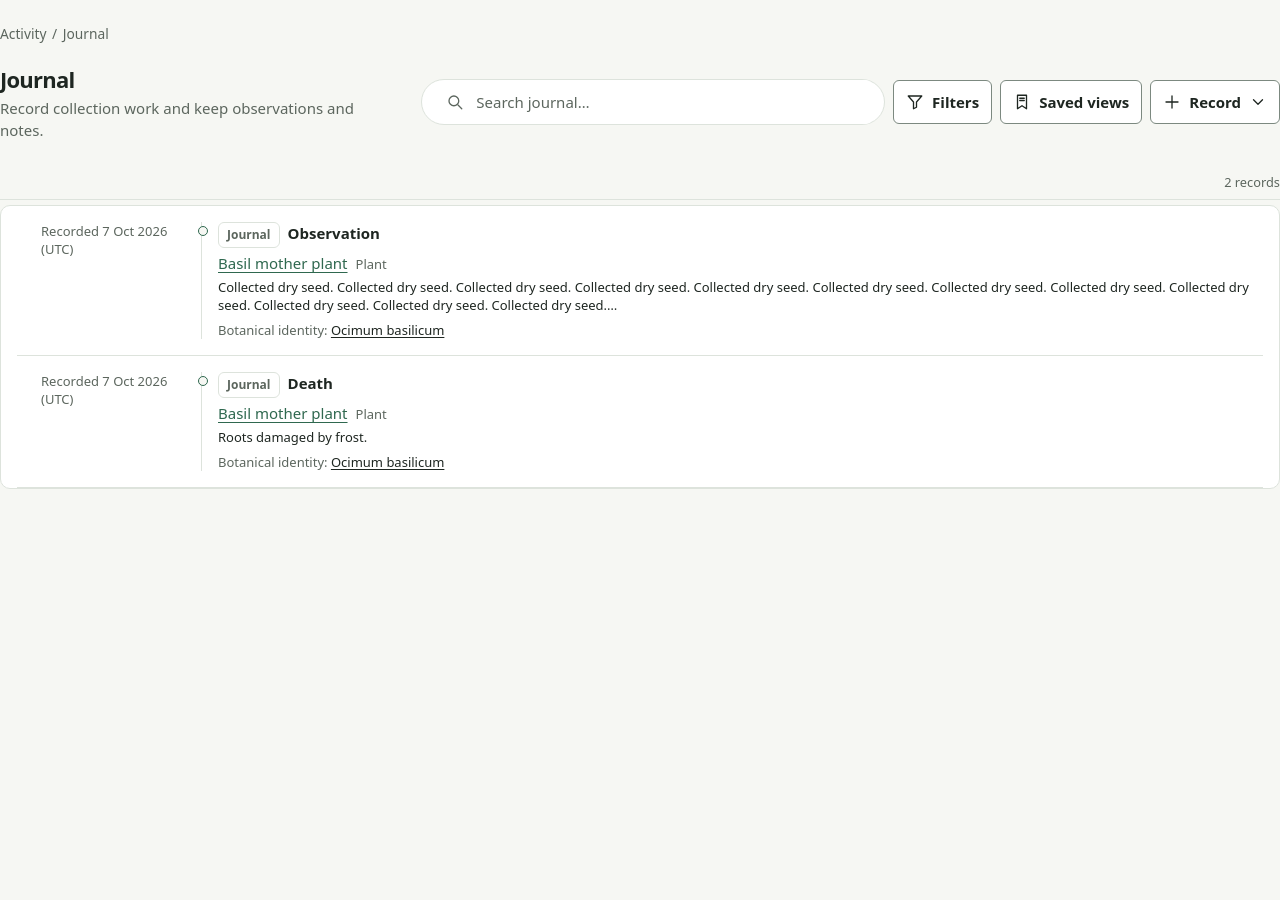
Test: Add observation / note reuses the correct contextual workflow and preserves dialog focus
The image size is (1280, 900).
Click the button "Record" at [1215, 102], box x1=1150 y1=80 x2=1279 y2=124
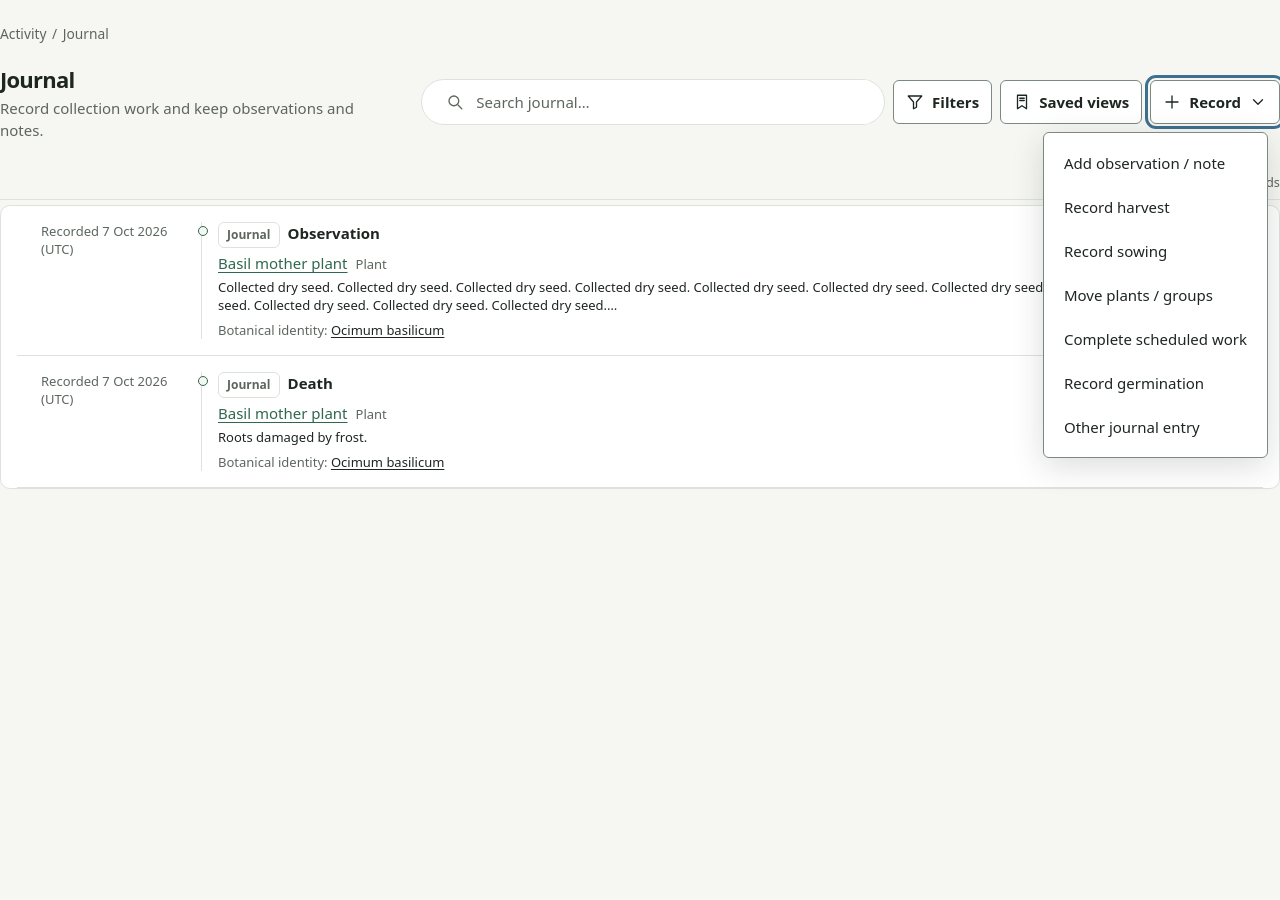
Click the button "Add observation / note" at [1156, 163], box x1=1052 y1=141 x2=1259 y2=185
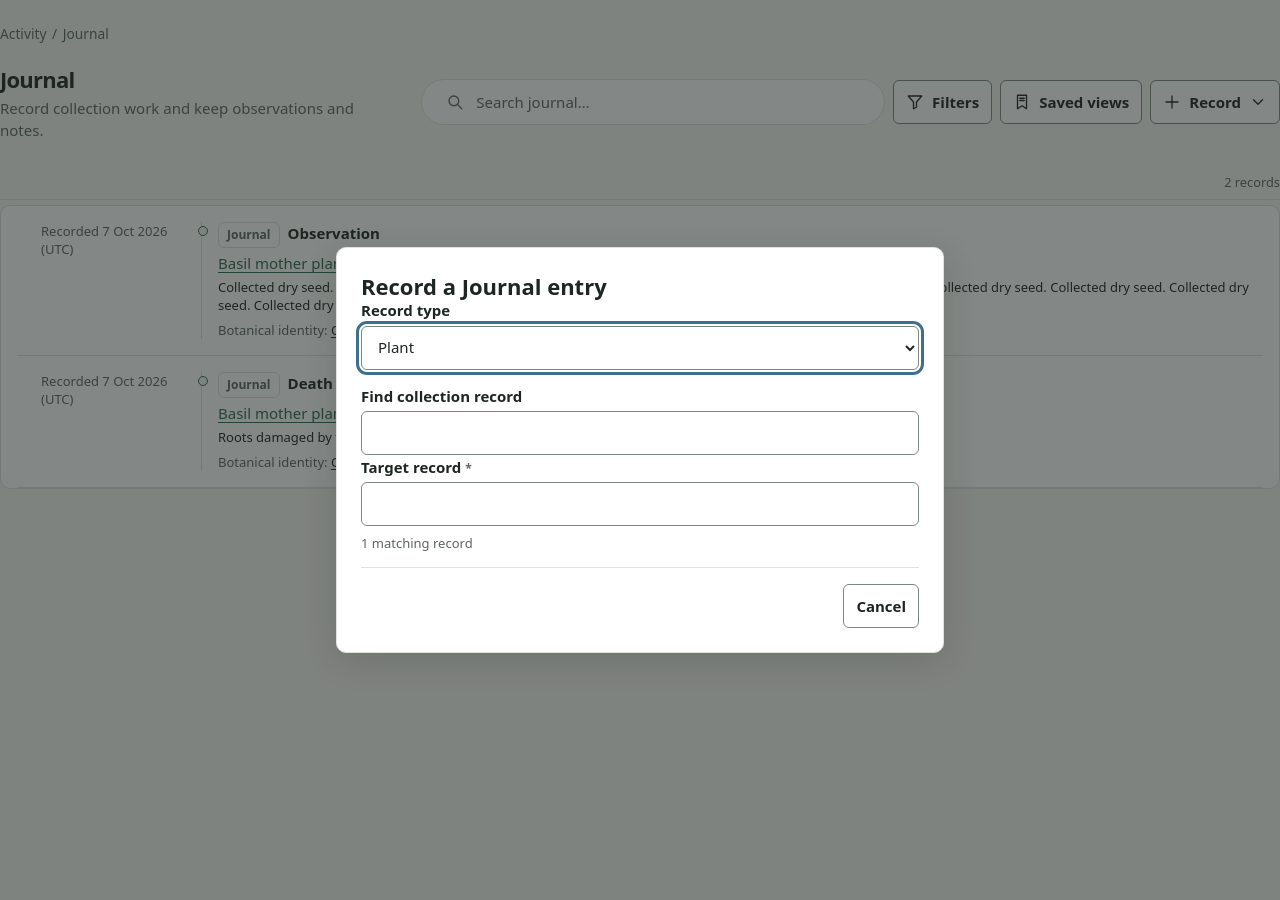
Select "Plant group" in the dropdown labelled "Record type" at [640, 348], box x1=361 y1=326 x2=919 y2=370
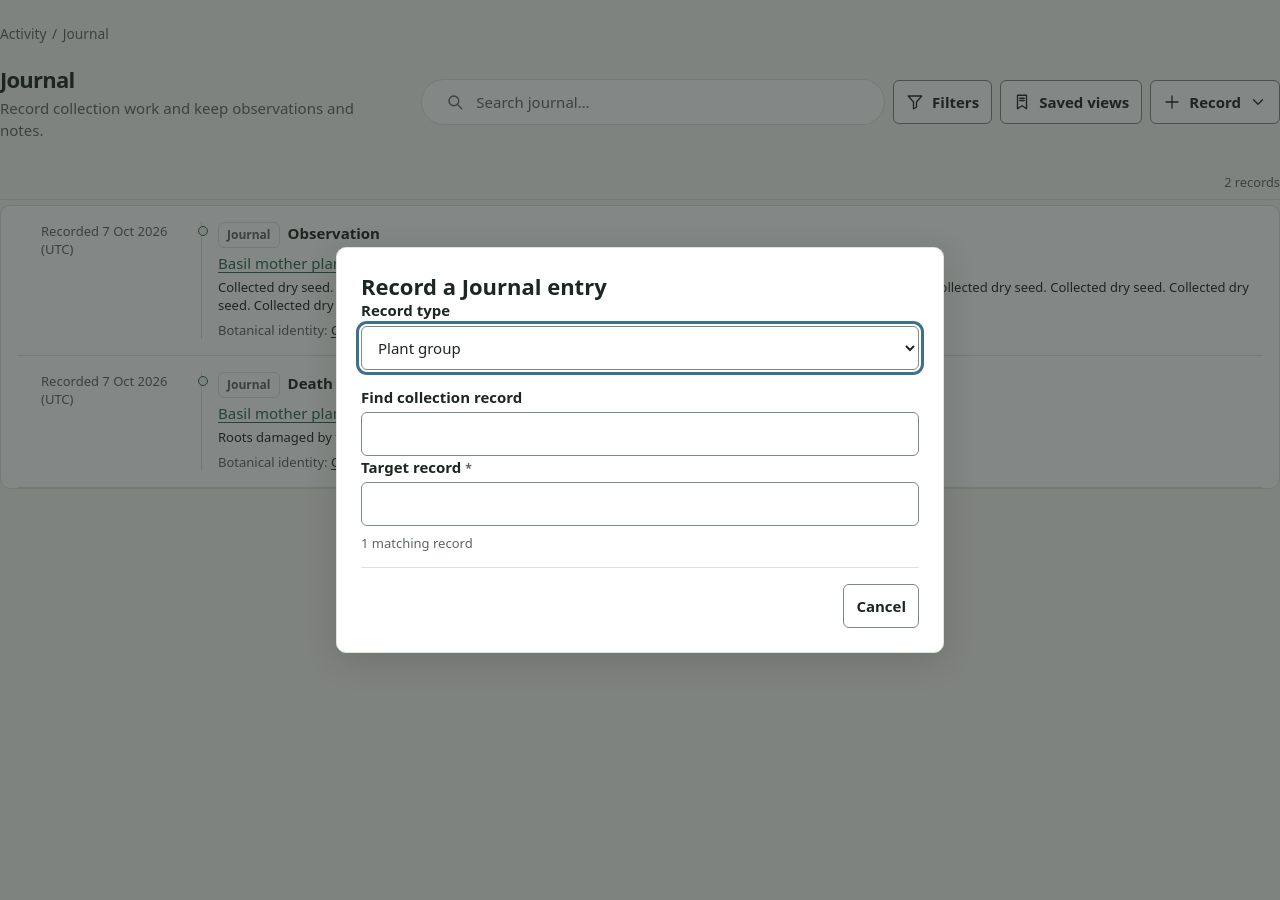
Click the dropdown labelled "Target record" at [640, 504], box x1=361 y1=482 x2=919 y2=526
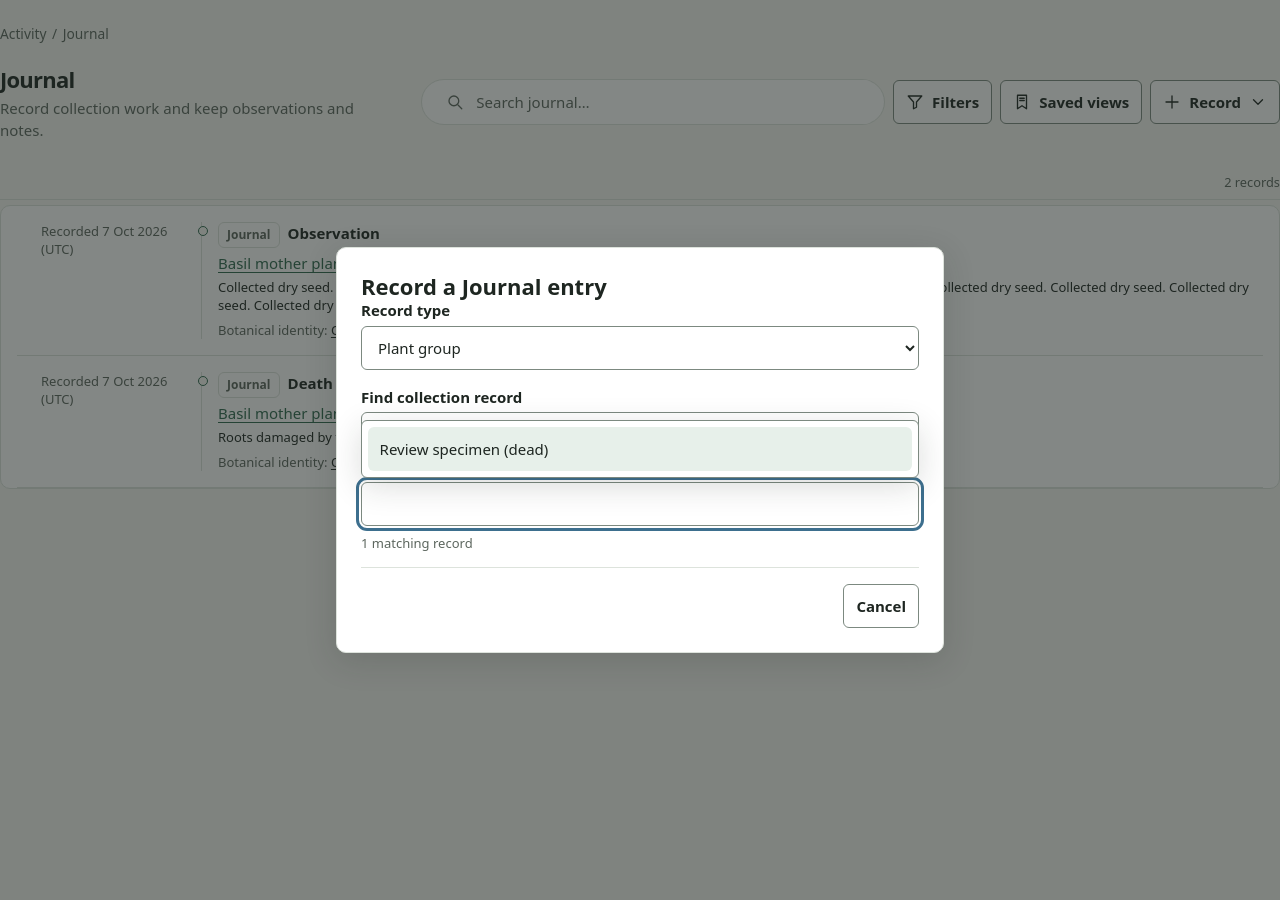
Click the button "Review specimen (dead)" at [464, 449], box x1=368 y1=427 x2=912 y2=471
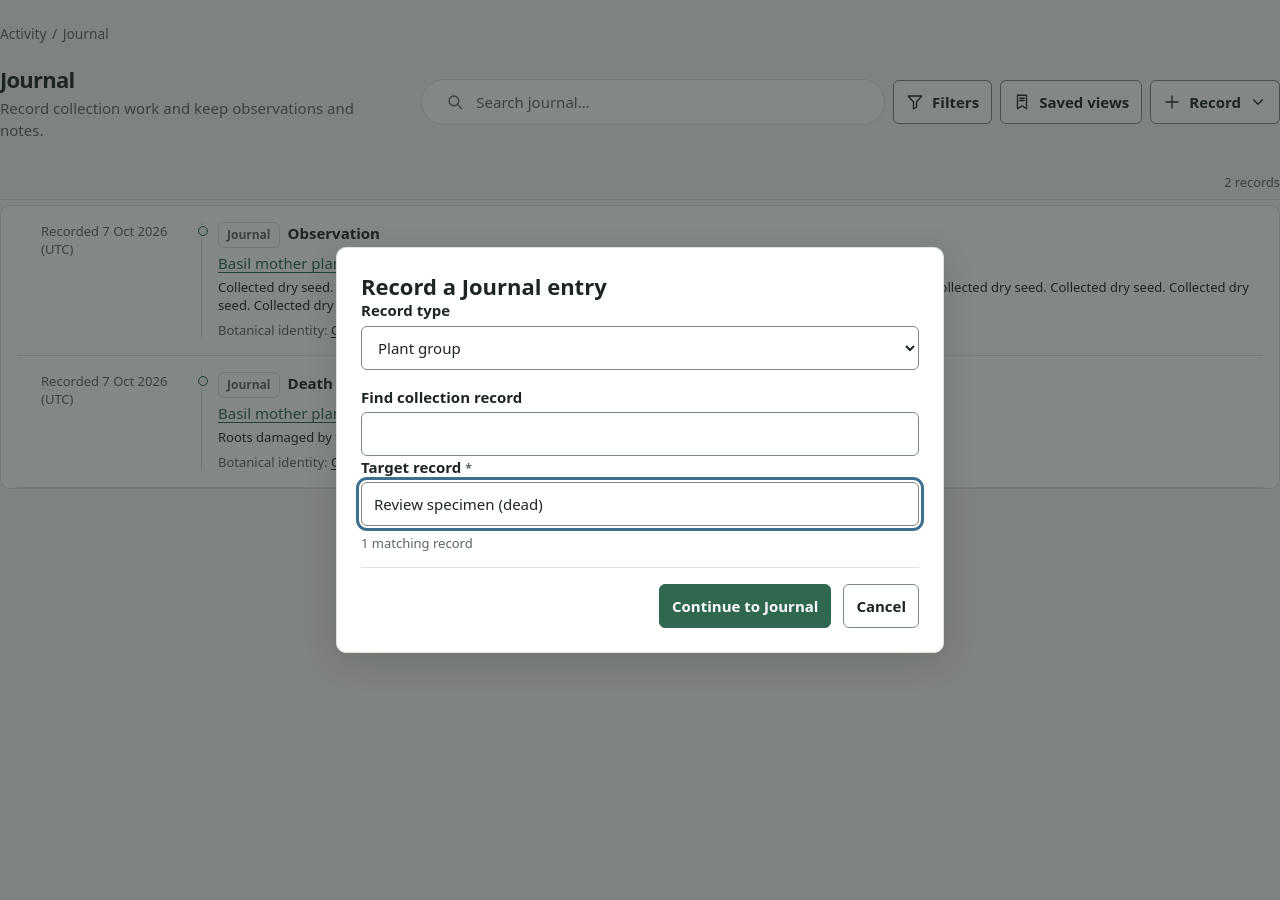
Press Escape
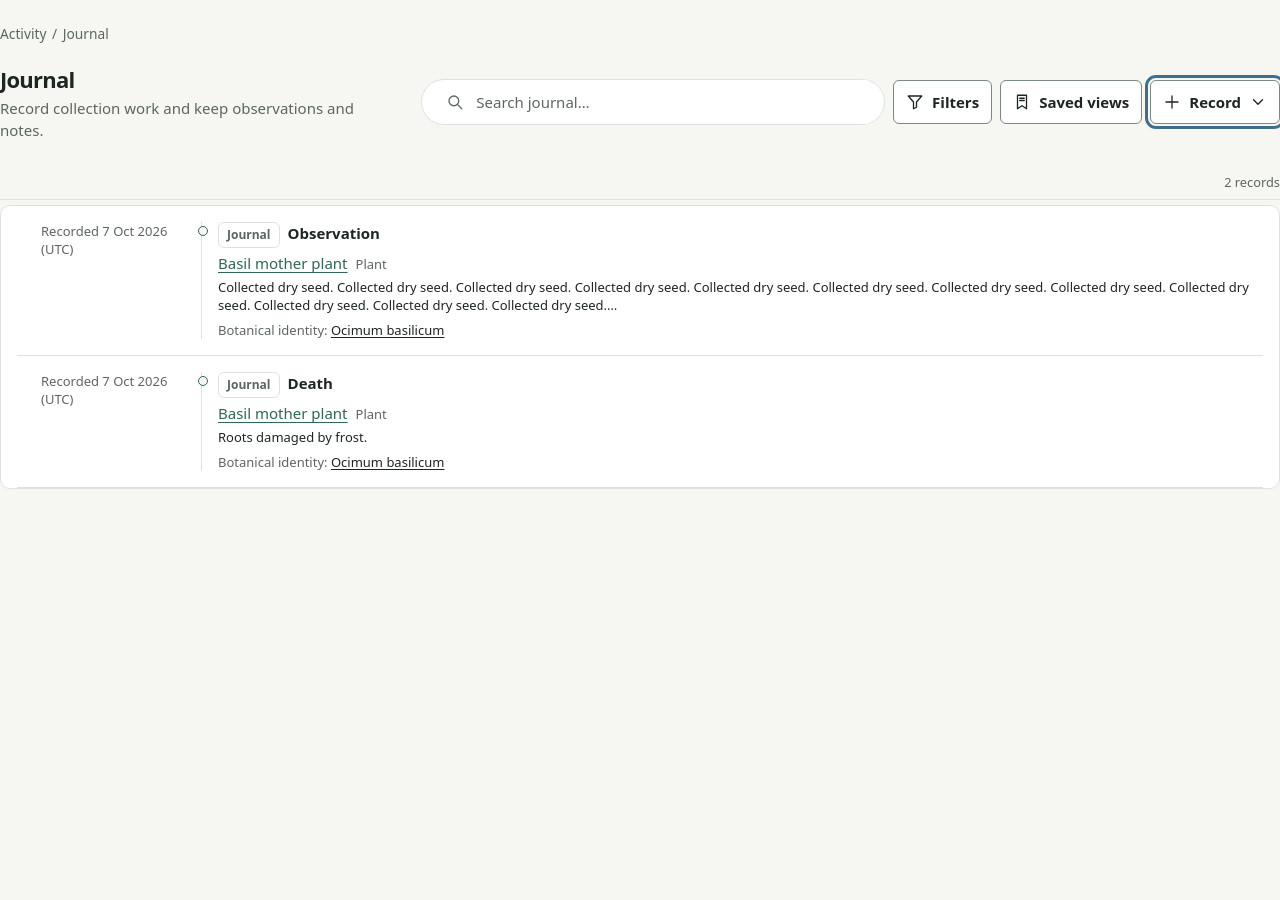
Result: the dialog is gone
